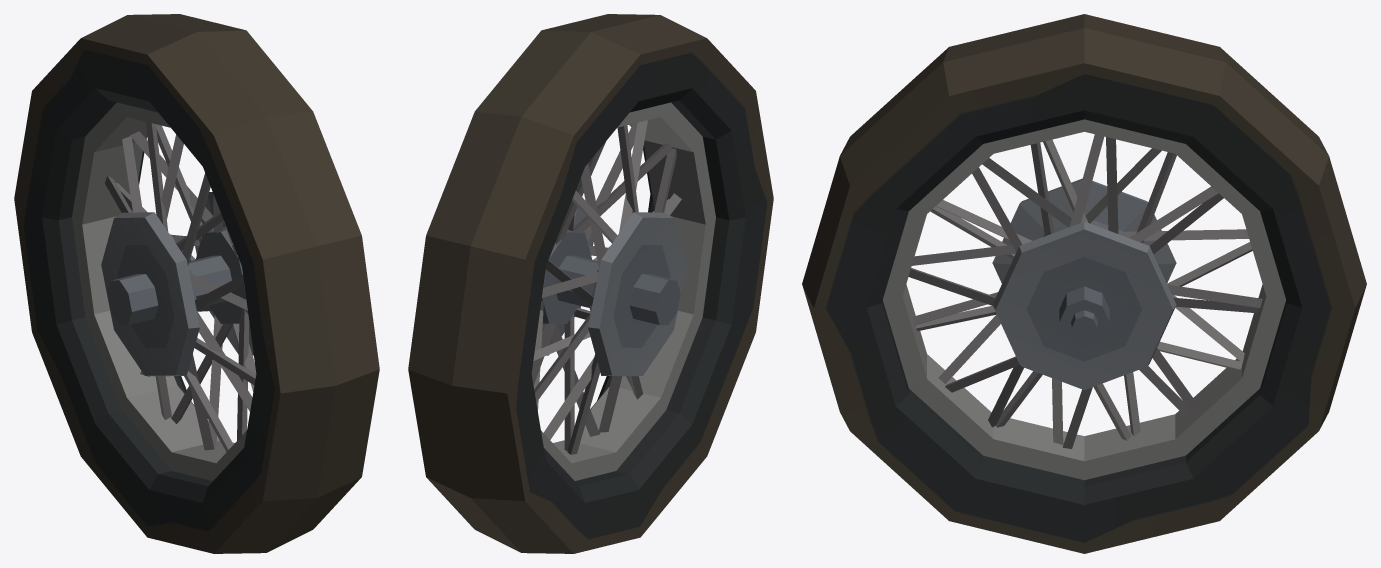
The model's file is SM_Veh_Moped_RearWheel_01.obj.
3 views of the same model, side by side, from view 1: azimuth 30°, elevation 25°; view 2: azimuth 150°, elevation 25°; view 3: azimuth 270°, elevation 25° (orthographic).
Visible parts, largest first — view 1: SM_Veh_Moped_RearWheel_01_0; view 2: SM_Veh_Moped_RearWheel_01_0; view 3: SM_Veh_Moped_RearWheel_01_0.
Part boxes in pixels (x1,y1,x2,y2): SM_Veh_Moped_RearWheel_01_0: (14,14,379,553); SM_Veh_Moped_RearWheel_01_0: (408,14,773,553); SM_Veh_Moped_RearWheel_01_0: (802,14,1366,553).
Size of the model in its own units: 0.1792 by 0.5223 by 0.5223.
Materials: 1 (1 with a texture image).
